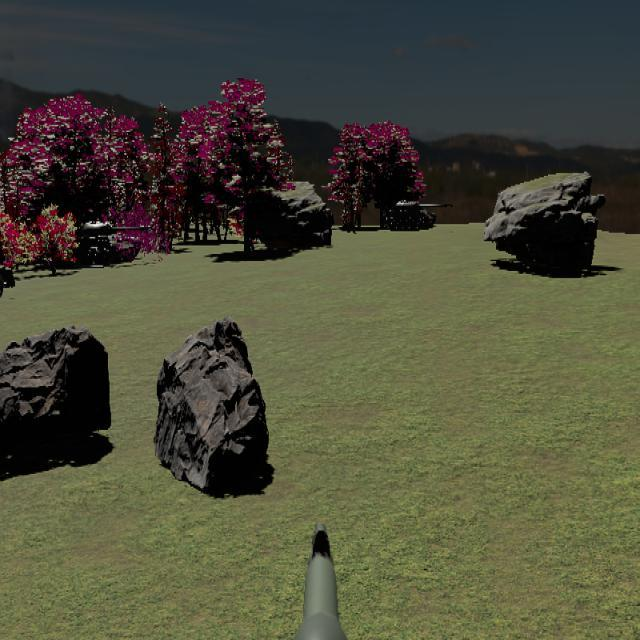Tank: (72, 218, 155, 266), (381, 199, 453, 231)
